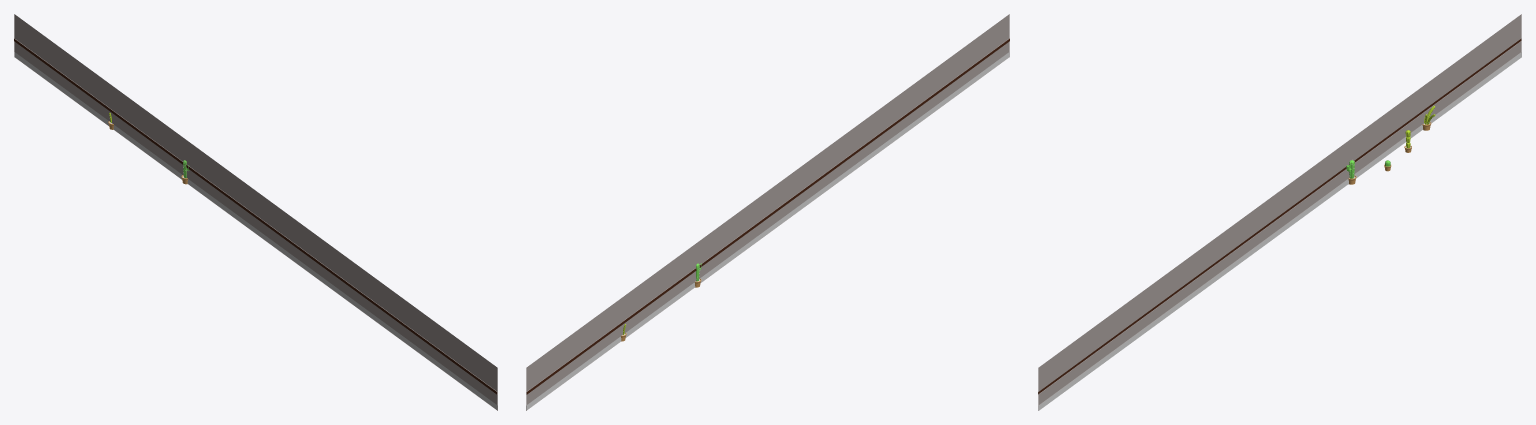
File: ward_one.glb
The picture shows the model from 3 angles, left to right: view 1: azimuth 30°, elevation 25°; view 2: azimuth 150°, elevation 25°; view 3: azimuth 330°, elevation 25°; orthographic projection.
Visible parts, largest first — view 1: uploads_files_715338_basic_door.011; view 2: uploads_files_715338_basic_door.011; view 3: uploads_files_715338_basic_door.011.
Boxes of the visible parts, x1,y1,x2,y2 form: uploads_files_715338_basic_door.011: (14, 14, 497, 410); uploads_files_715338_basic_door.011: (526, 14, 1009, 410); uploads_files_715338_basic_door.011: (1038, 14, 1521, 410).
Size of the model in its own units: 17.71 by 34.83 by 695.
